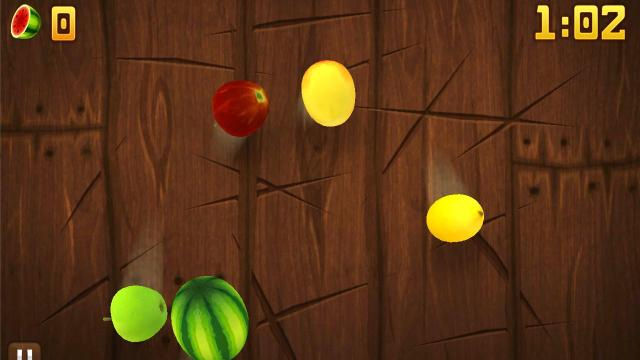fruit: (173, 278, 247, 358), (106, 286, 166, 344), (301, 60, 355, 124), (213, 80, 270, 136), (433, 198, 479, 242)
